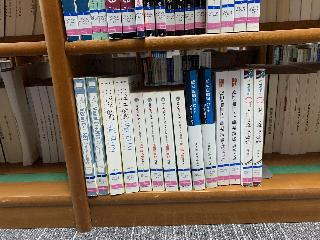book-spine: (99, 77, 124, 195), (114, 77, 139, 193), (183, 69, 206, 191), (74, 77, 97, 196), (86, 77, 108, 195), (197, 68, 218, 189), (170, 91, 192, 192), (143, 92, 164, 192), (131, 93, 152, 192), (157, 92, 177, 192), (216, 72, 229, 185), (253, 69, 265, 187), (228, 71, 240, 185), (243, 69, 254, 187)
